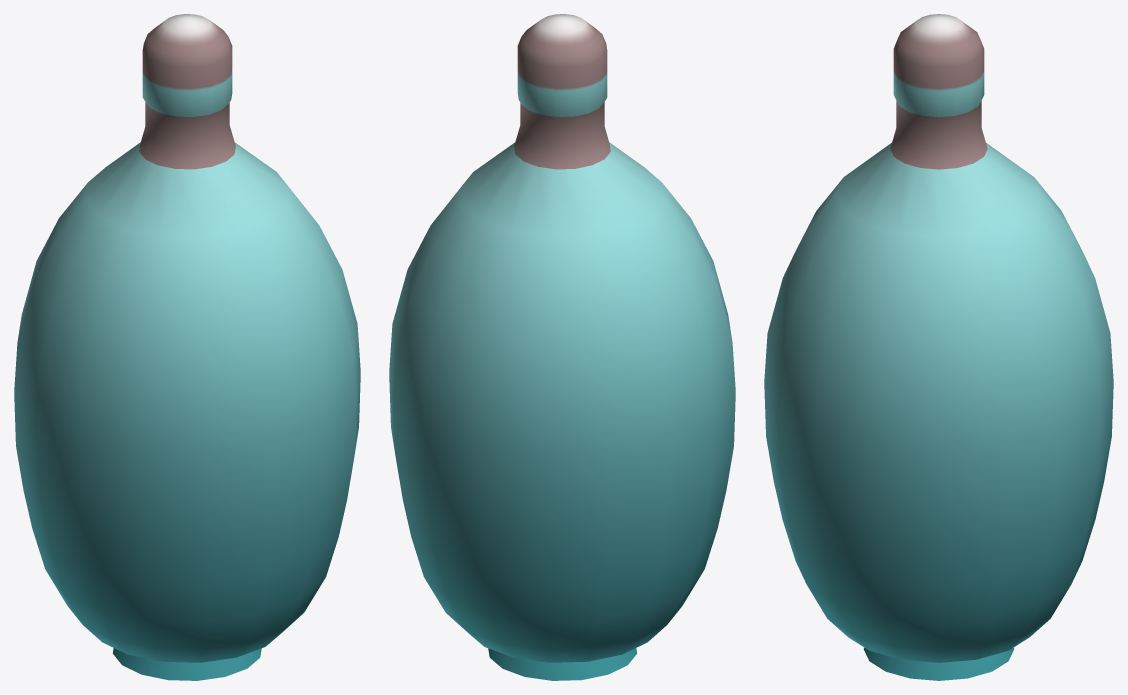
The model's file is Water_Jugs.FBX.
3 renders of one model, left to right at view 1: azimuth 30°, elevation 25°; view 2: azimuth 150°, elevation 25°; view 3: azimuth 270°, elevation 25°, orthographic.
Parts seen in each view (by area): view 1: Water_Jugs; view 2: Water_Jugs; view 3: Water_Jugs.
Boxes of the visible parts, <box> form: Water_Jugs: <box>14,14,360,680</box>; Water_Jugs: <box>389,14,735,680</box>; Water_Jugs: <box>764,14,1113,680</box>.
Size of the model in its own units: 7.34 by 14.61 by 7.34.
Materials: 1 (1 with a texture image).
